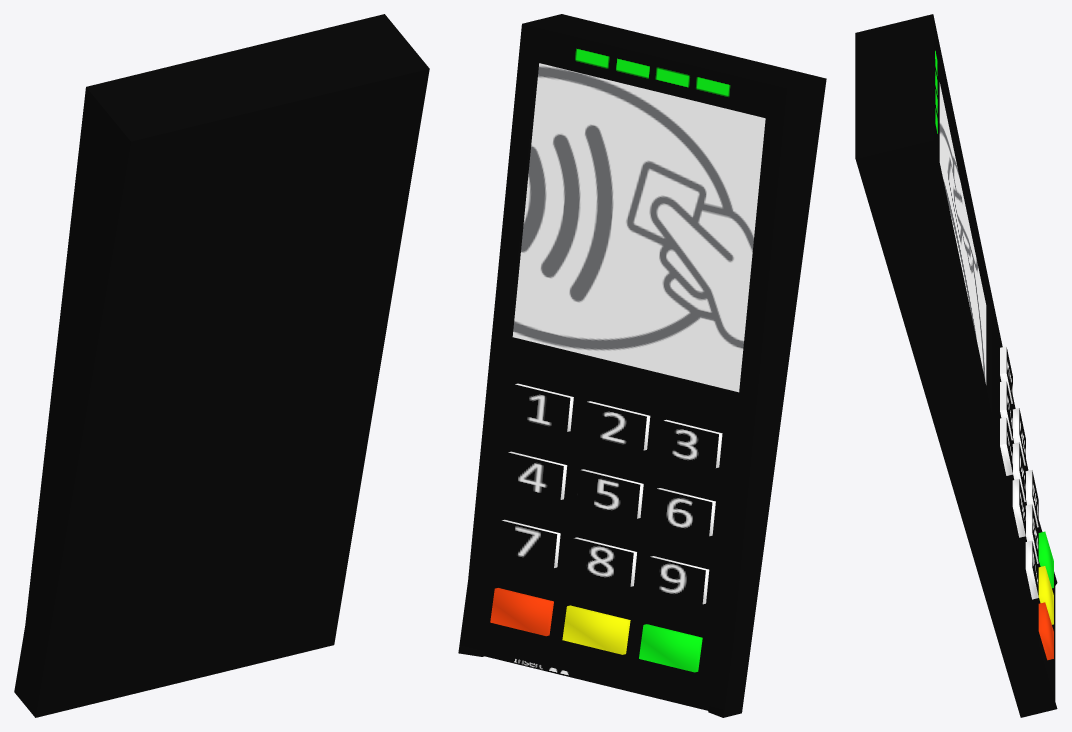
The model's file is asset.gltf.
The picture shows the model from 3 angles, left to right: view 1: azimuth 30°, elevation 25°; view 2: azimuth 150°, elevation 25°; view 3: azimuth 270°, elevation 25°; orthographic projection. The views are drawn at different scales.
Parts seen in each view (by area): view 1: Eftpos; view 2: Eftpos; view 3: Eftpos.
Part boxes in pixels (x1,y1,x2,y2): Eftpos: (14,14,429,717); Eftpos: (458,14,826,717); Eftpos: (855,14,1057,717).
Bounding box in the file's own units: 0.0888 × 0.1898 × 0.0601.
Materials: 1 (1 with a texture image).
